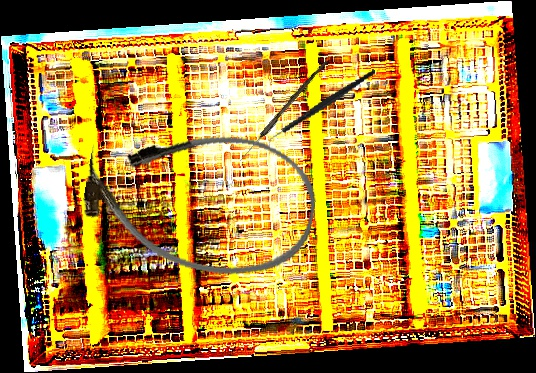Cannula: (74, 112, 325, 288)
Chopper: (255, 68, 387, 151)
Surgical Spoon: (238, 58, 328, 164)
